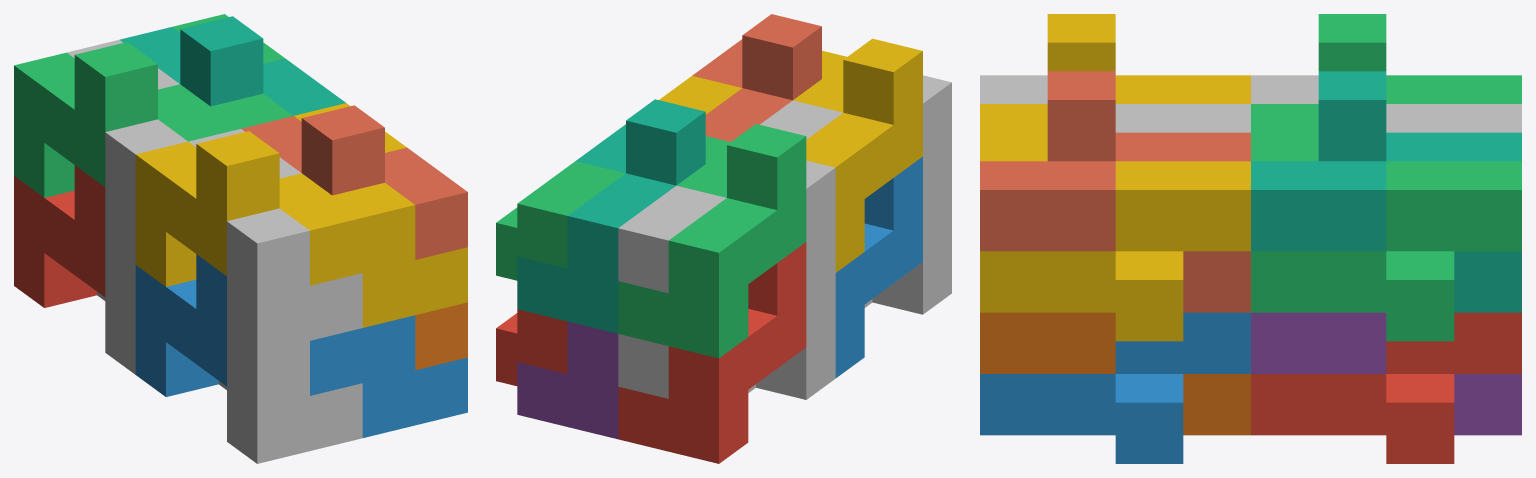
File: tiling.obj
The picture shows the model from 3 angles, left to right: view 1: azimuth 30°, elevation 25°; view 2: azimuth 150°, elevation 25°; view 3: azimuth 270°, elevation 25°; orthographic projection. The views are drawn at different scales.
Parts seen in each view (by area): view 1: copy_1_domain_4, copy_1_domain_3, copy_2_domain_4, copy_1_domain_8, copy_1_domain_2, copy_2_domain_2, copy_2_domain_8, copy_1_domain_7, copy_1_domain_1, copy_2_domain_6, copy_2_domain_3, copy_2_domain_1 (+2 smaller); view 2: copy_1_domain_3, copy_1_domain_7, copy_1_domain_1, copy_1_domain_4, copy_1_domain_8, copy_1_domain_2, copy_2_domain_3, copy_1_domain_5, copy_2_domain_7, copy_2_domain_1, copy_2_domain_4, copy_2_domain_2 (+2 smaller); view 3: copy_2_domain_7, copy_2_domain_8, copy_1_domain_8, copy_1_domain_7, copy_2_domain_5, copy_2_domain_6, copy_1_domain_6, copy_1_domain_5, copy_1_domain_4, copy_1_domain_3, copy_2_domain_3, copy_2_domain_4.
Boxes of the visible parts, left/top/right/bottom form: copy_1_domain_4: left=135, top=131, right=362, bottom=286; copy_1_domain_3: left=14, top=42, right=240, bottom=197; copy_2_domain_4: left=188, top=129, right=362, bottom=353; copy_1_domain_8: left=241, top=105, right=467, bottom=259; copy_1_domain_2: left=135, top=254, right=362, bottom=396; copy_2_domain_2: left=218, top=332, right=362, bottom=463; copy_2_domain_8: left=294, top=103, right=467, bottom=327; copy_1_domain_7: left=120, top=16, right=345, bottom=115; copy_1_domain_1: left=14, top=165, right=105, bottom=307; copy_2_domain_6: left=362, top=315, right=467, bottom=437; copy_2_domain_3: left=67, top=39, right=187, bottom=264; copy_2_domain_1: left=97, top=243, right=135, bottom=374; copy_1_domain_3: left=618, top=124, right=806, bottom=358; copy_1_domain_7: left=517, top=99, right=705, bottom=333; copy_1_domain_1: left=618, top=242, right=806, bottom=463; copy_1_domain_4: left=793, top=38, right=922, bottom=272; copy_1_domain_8: left=692, top=14, right=821, bottom=141; copy_1_domain_2: left=835, top=156, right=922, bottom=378; copy_2_domain_3: left=618, top=160, right=835, bottom=294; copy_1_domain_5: left=517, top=321, right=618, bottom=439; copy_2_domain_7: left=496, top=136, right=730, bottom=280; copy_2_domain_1: left=618, top=273, right=835, bottom=399; copy_2_domain_4: left=760, top=75, right=951, bottom=208; copy_2_domain_2: left=864, top=188, right=951, bottom=314; copy_2_domain_7: left=1251, top=132, right=1521, bottom=341; copy_2_domain_8: left=980, top=132, right=1250, bottom=341; copy_1_domain_8: left=980, top=71, right=1250, bottom=312; copy_1_domain_7: left=1251, top=71, right=1521, bottom=312; copy_2_domain_5: left=1251, top=312, right=1521, bottom=463; copy_2_domain_6: left=980, top=312, right=1250, bottom=463; copy_1_domain_6: left=980, top=312, right=1250, bottom=435; copy_1_domain_5: left=1251, top=312, right=1521, bottom=435; copy_1_domain_4: left=980, top=14, right=1250, bottom=132; copy_1_domain_3: left=1251, top=14, right=1521, bottom=132; copy_2_domain_3: left=1251, top=75, right=1521, bottom=132; copy_2_domain_4: left=980, top=75, right=1250, bottom=132.
Size of the model in its own units: 5 by 5 by 8.
